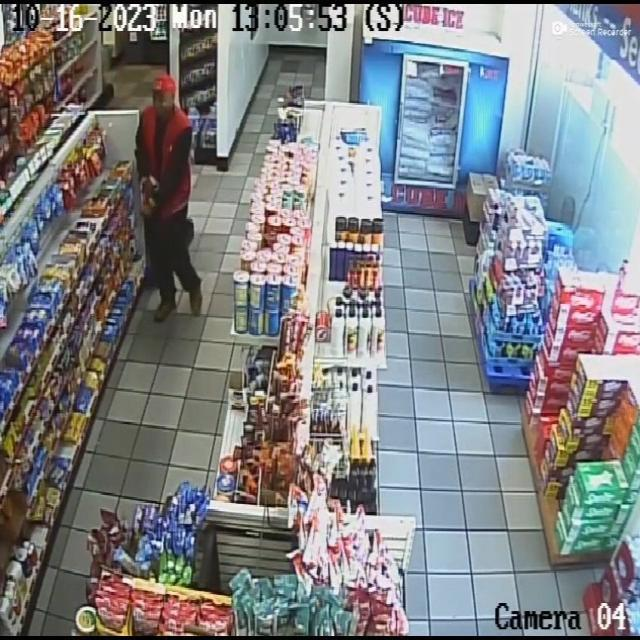Normal: (137, 66, 212, 332)
